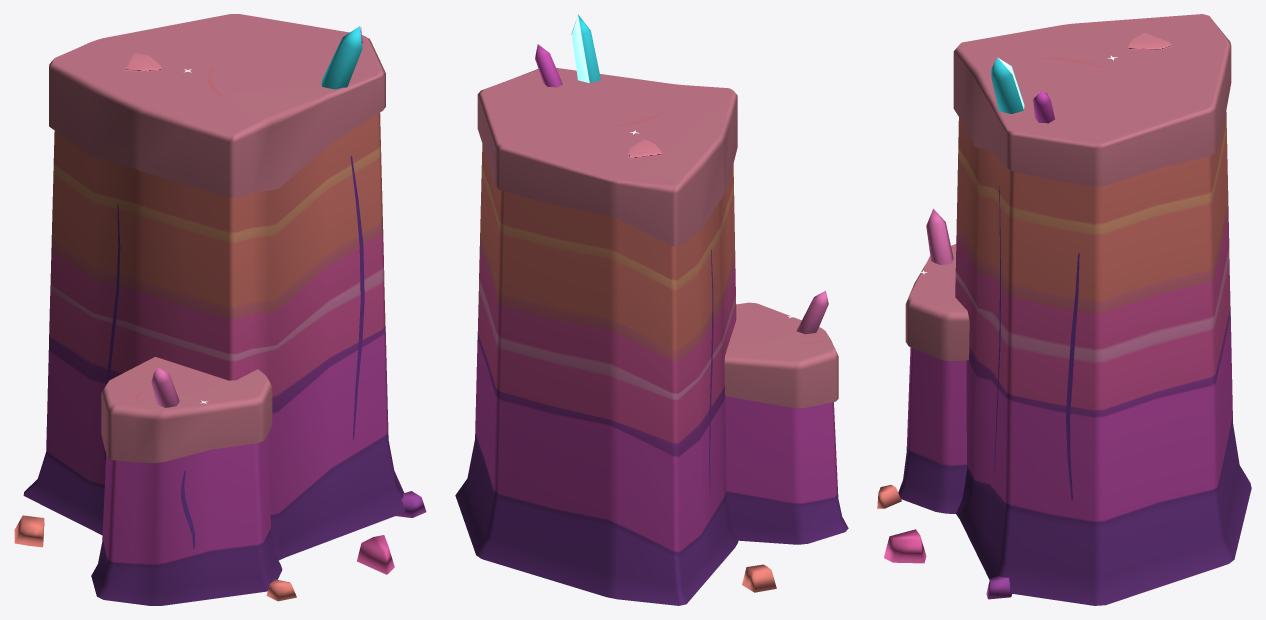
Rendered from mesa_rock.glb.
3 renders of one model, left to right at view 1: azimuth 30°, elevation 25°; view 2: azimuth 150°, elevation 25°; view 3: azimuth 270°, elevation 25°, orthographic. The views are drawn at different scales.
Visible parts, largest first — view 1: Mesa.001; view 2: Mesa.001; view 3: Mesa.001.
Boxes of the visible parts, x1=… form: Mesa.001: x1=14, y1=14, x2=426, y2=605; Mesa.001: x1=455, y1=14, x2=848, y2=605; Mesa.001: x1=877, y1=14, x2=1251, y2=605.
Bounding box in the file's own units: 2.28 × 3.04 × 2.
